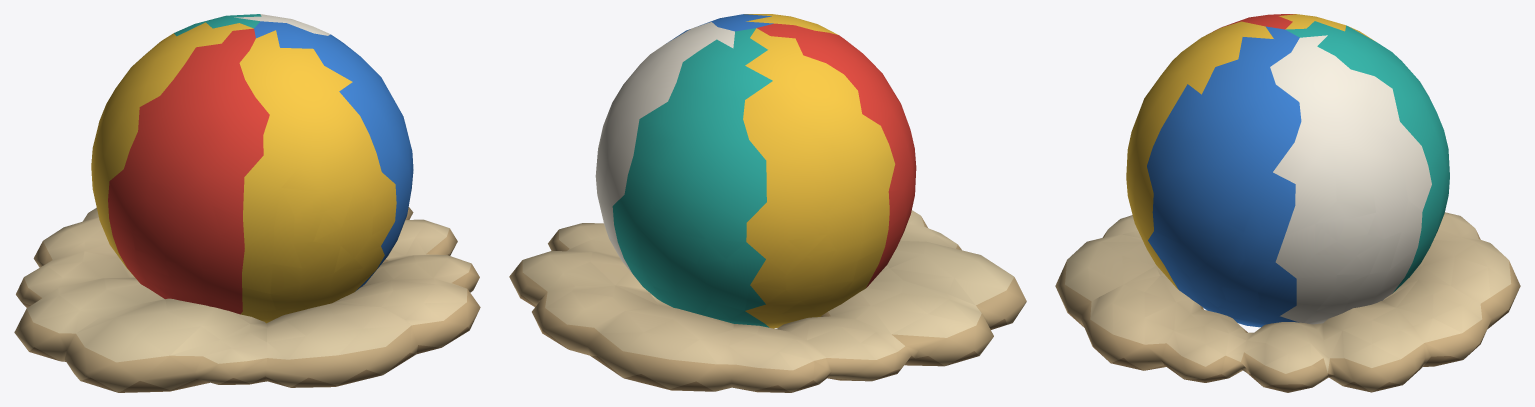
Rendered from shore_beach_ball_lod1.glb.
3 views of the same model, side by side, from view 1: azimuth 30°, elevation 25°; view 2: azimuth 150°, elevation 25°; view 3: azimuth 270°, elevation 25° (orthographic).
Parts seen in each view (by area): view 1: shore_beach_ball.001; view 2: shore_beach_ball.001; view 3: shore_beach_ball.001.
Part boxes in pixels (<box>): shore_beach_ball.001: <box>14,14,480,392</box>; shore_beach_ball.001: <box>509,14,1026,392</box>; shore_beach_ball.001: <box>1055,14,1520,392</box>.
Bounding box in the file's own units: 10.42 × 6.77 × 9.8.
